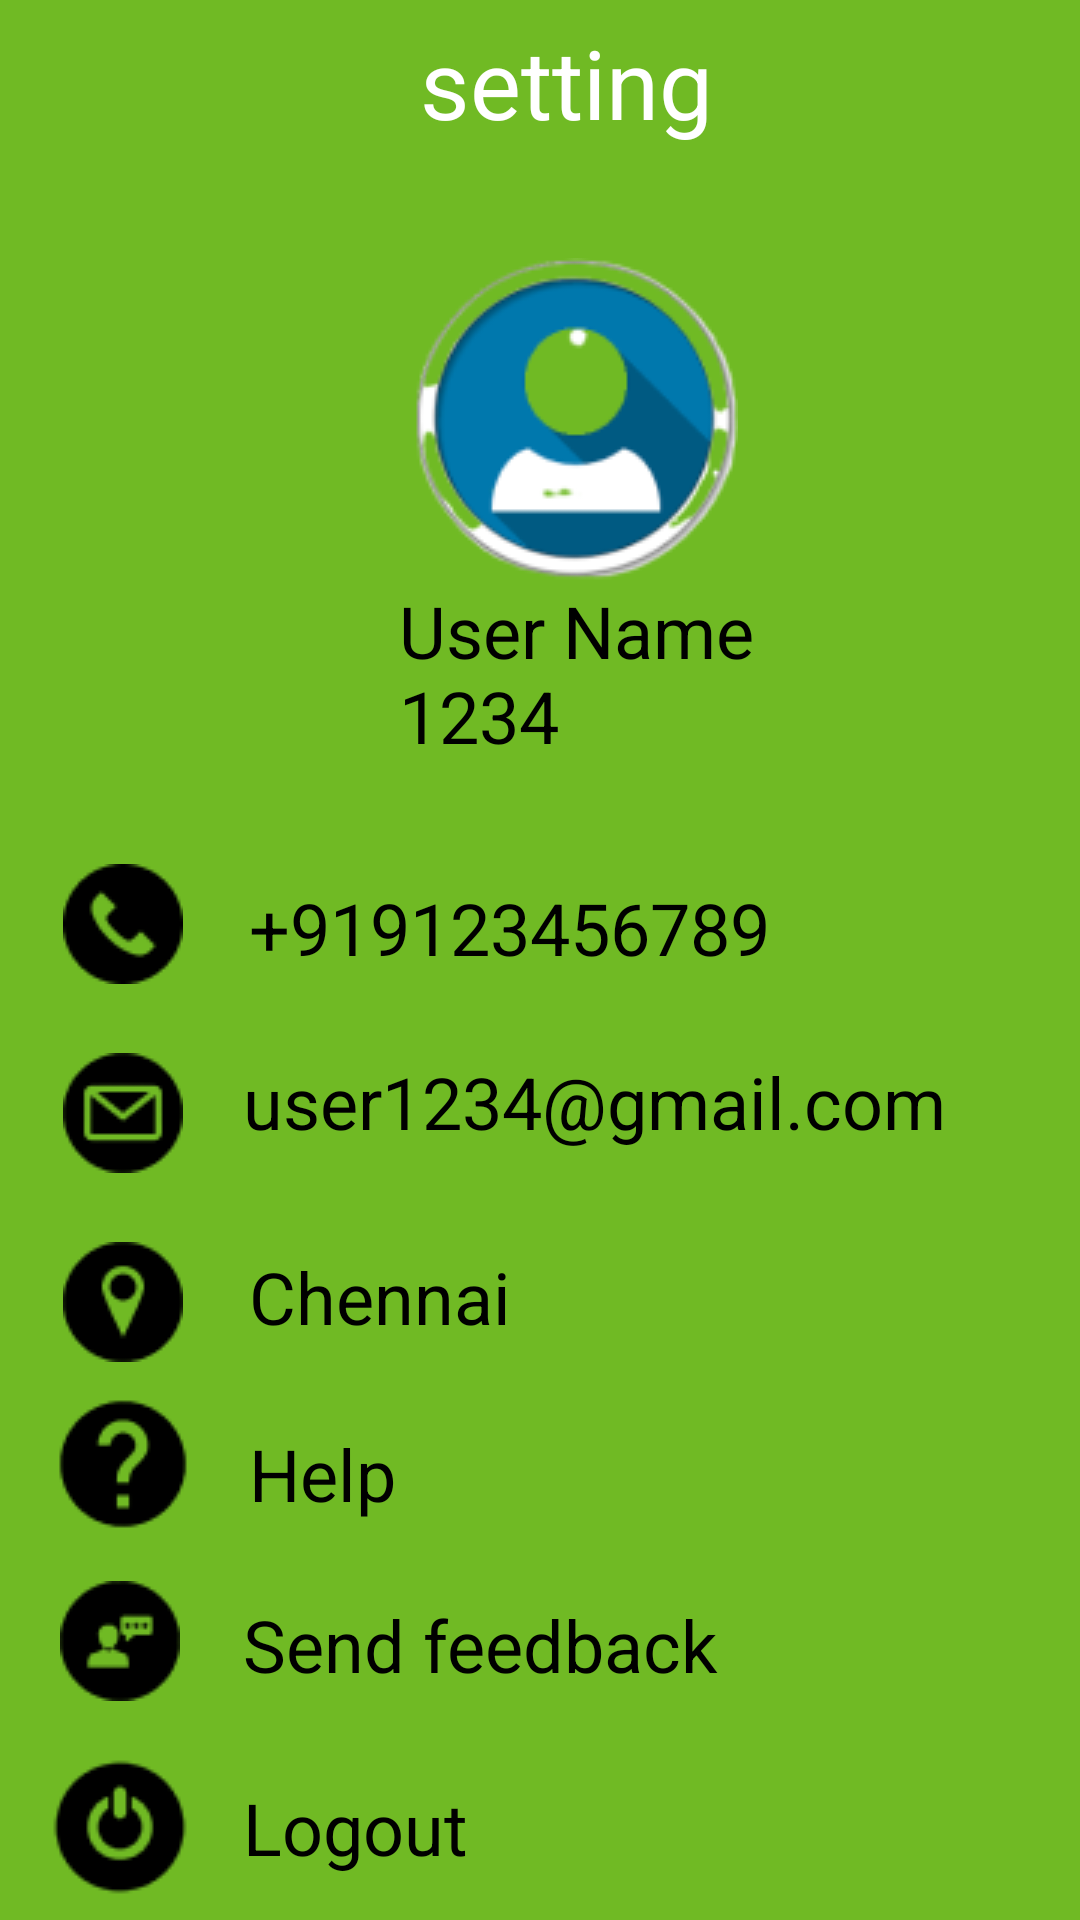

Where icons sit on this 1080*1920 app screen, as bbox(x1, y1, x2, y2):
location: bbox(63, 1242, 183, 1362)
